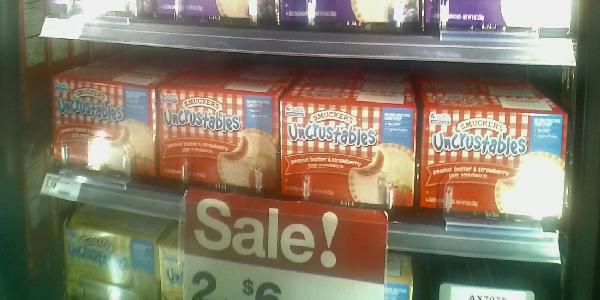icecream: (422, 76, 565, 223), (288, 73, 417, 220), (162, 70, 280, 202), (53, 58, 156, 184)
